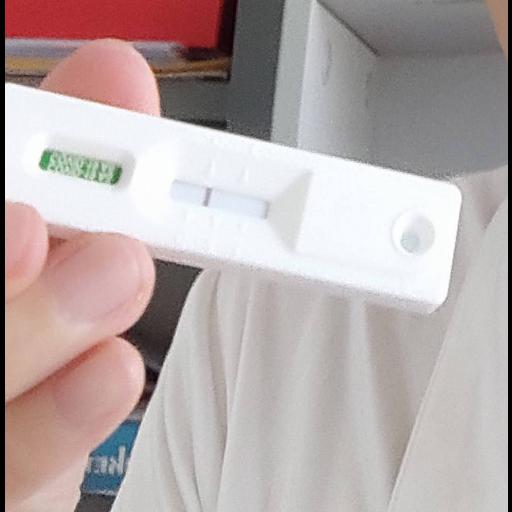Neg: (12, 87, 463, 306)
